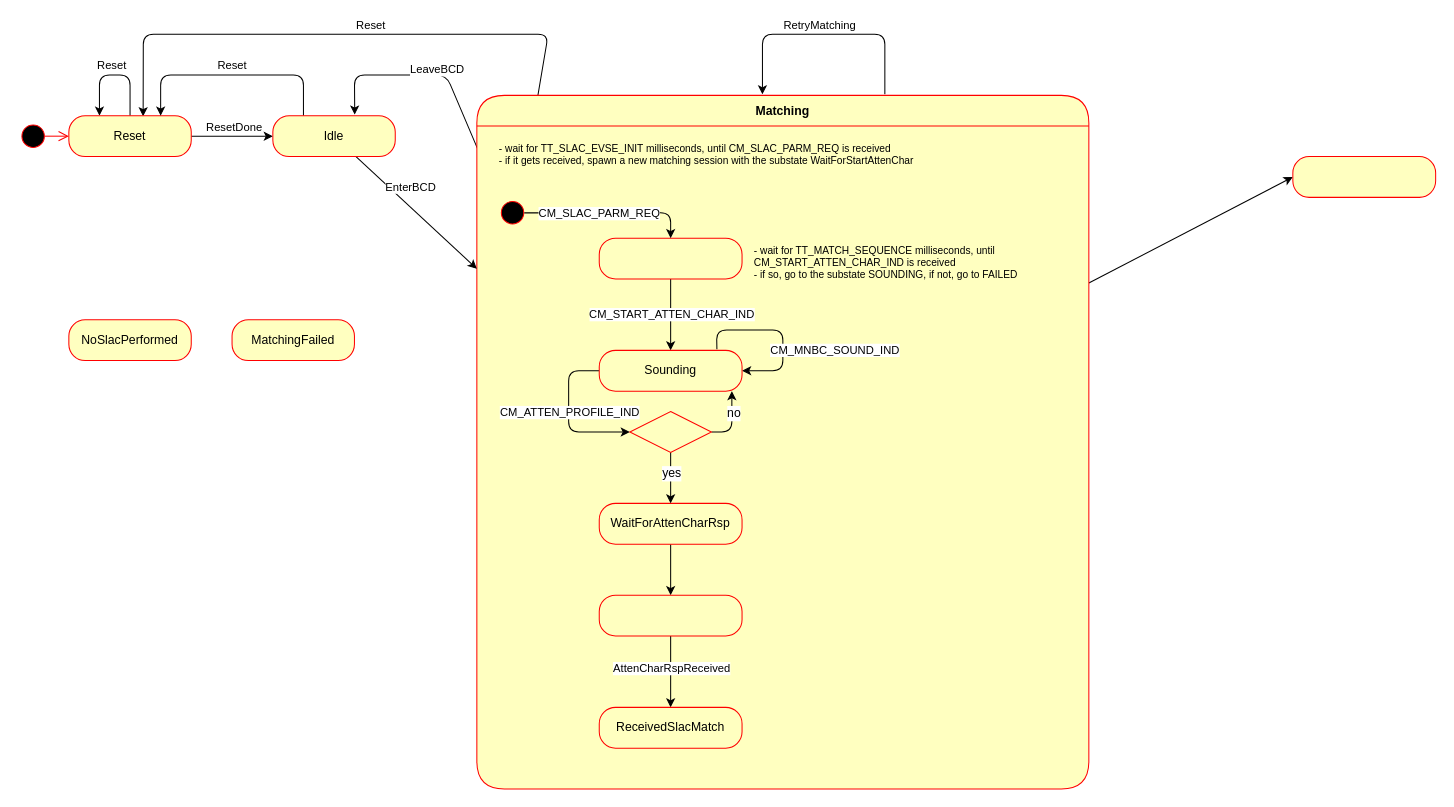
This 1454x807 diagram has some shape labels left out. Here are the shapes that lost their labels. From the top down, the centre of each, then its label:
point 1364,176: Matched
point 670,258: WaitForStartAttenChar
point 670,431: all sounds received
point 670,615: WaitForSlacMatch
